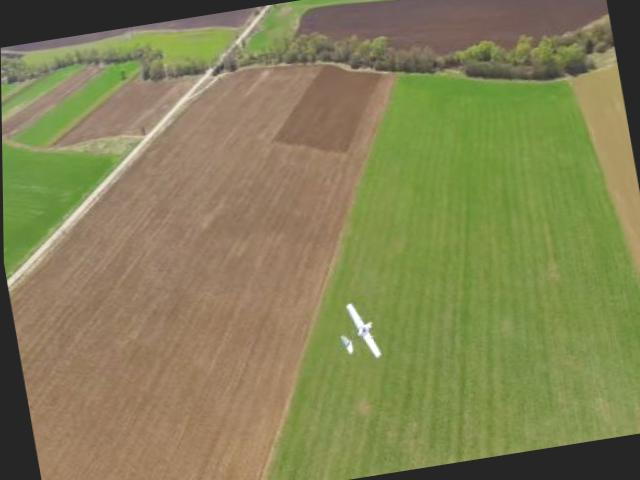uav: (328, 291, 384, 368)
